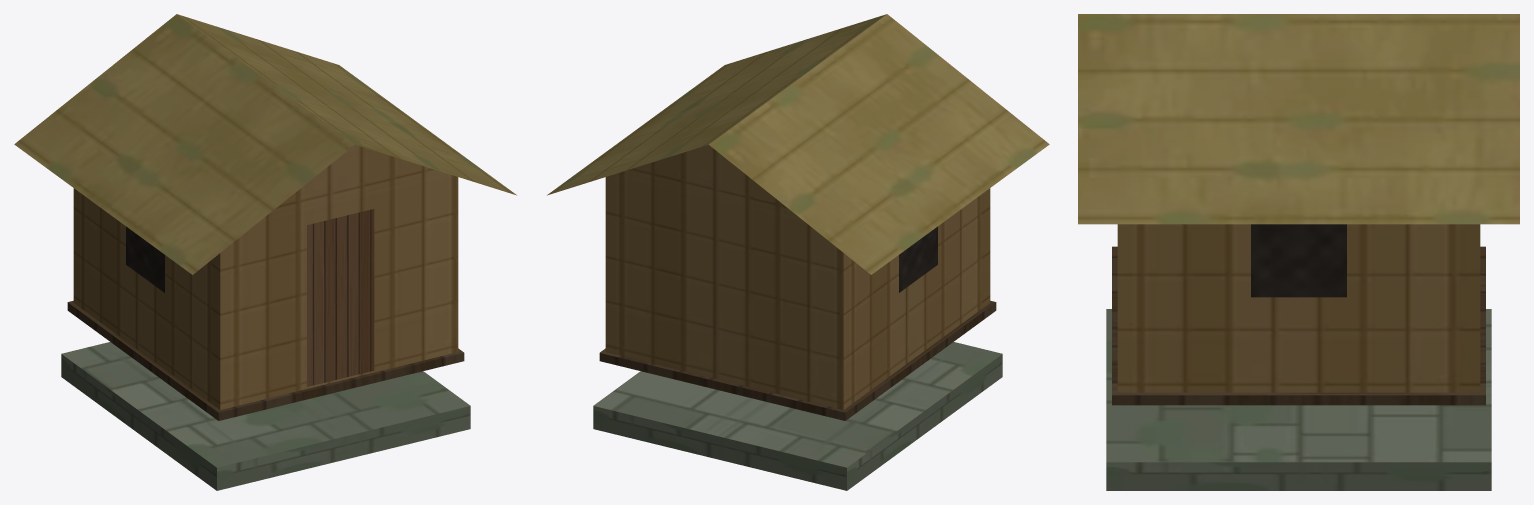
The model's file is ae_jungle_wood_small_hut_lod2.glb.
3 renders of one model, left to right at view 1: azimuth 30°, elevation 25°; view 2: azimuth 150°, elevation 25°; view 3: azimuth 270°, elevation 25°, orthographic. The views are drawn at different scales.
Parts seen in each view (by area): view 1: ae_jungle_wood_small_hut_lod2; view 2: ae_jungle_wood_small_hut_lod2; view 3: ae_jungle_wood_small_hut_lod2.
Boxes of the visible parts, x1,y1,x2,y2 form: ae_jungle_wood_small_hut_lod2: (14, 14, 516, 490); ae_jungle_wood_small_hut_lod2: (547, 14, 1049, 490); ae_jungle_wood_small_hut_lod2: (1078, 14, 1519, 490).
Bounding box in the file's own units: 4.1 × 3.9 × 3.9.
1 material, 1 textured.
